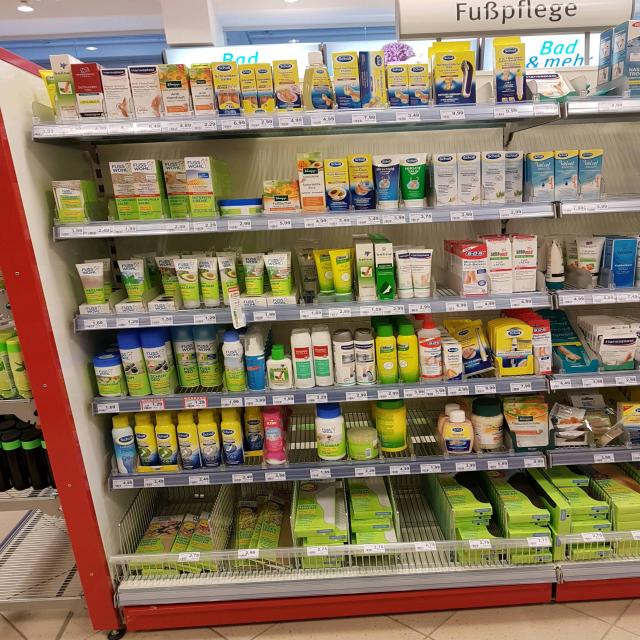void: (398, 478, 438, 563), (607, 140, 640, 200)
